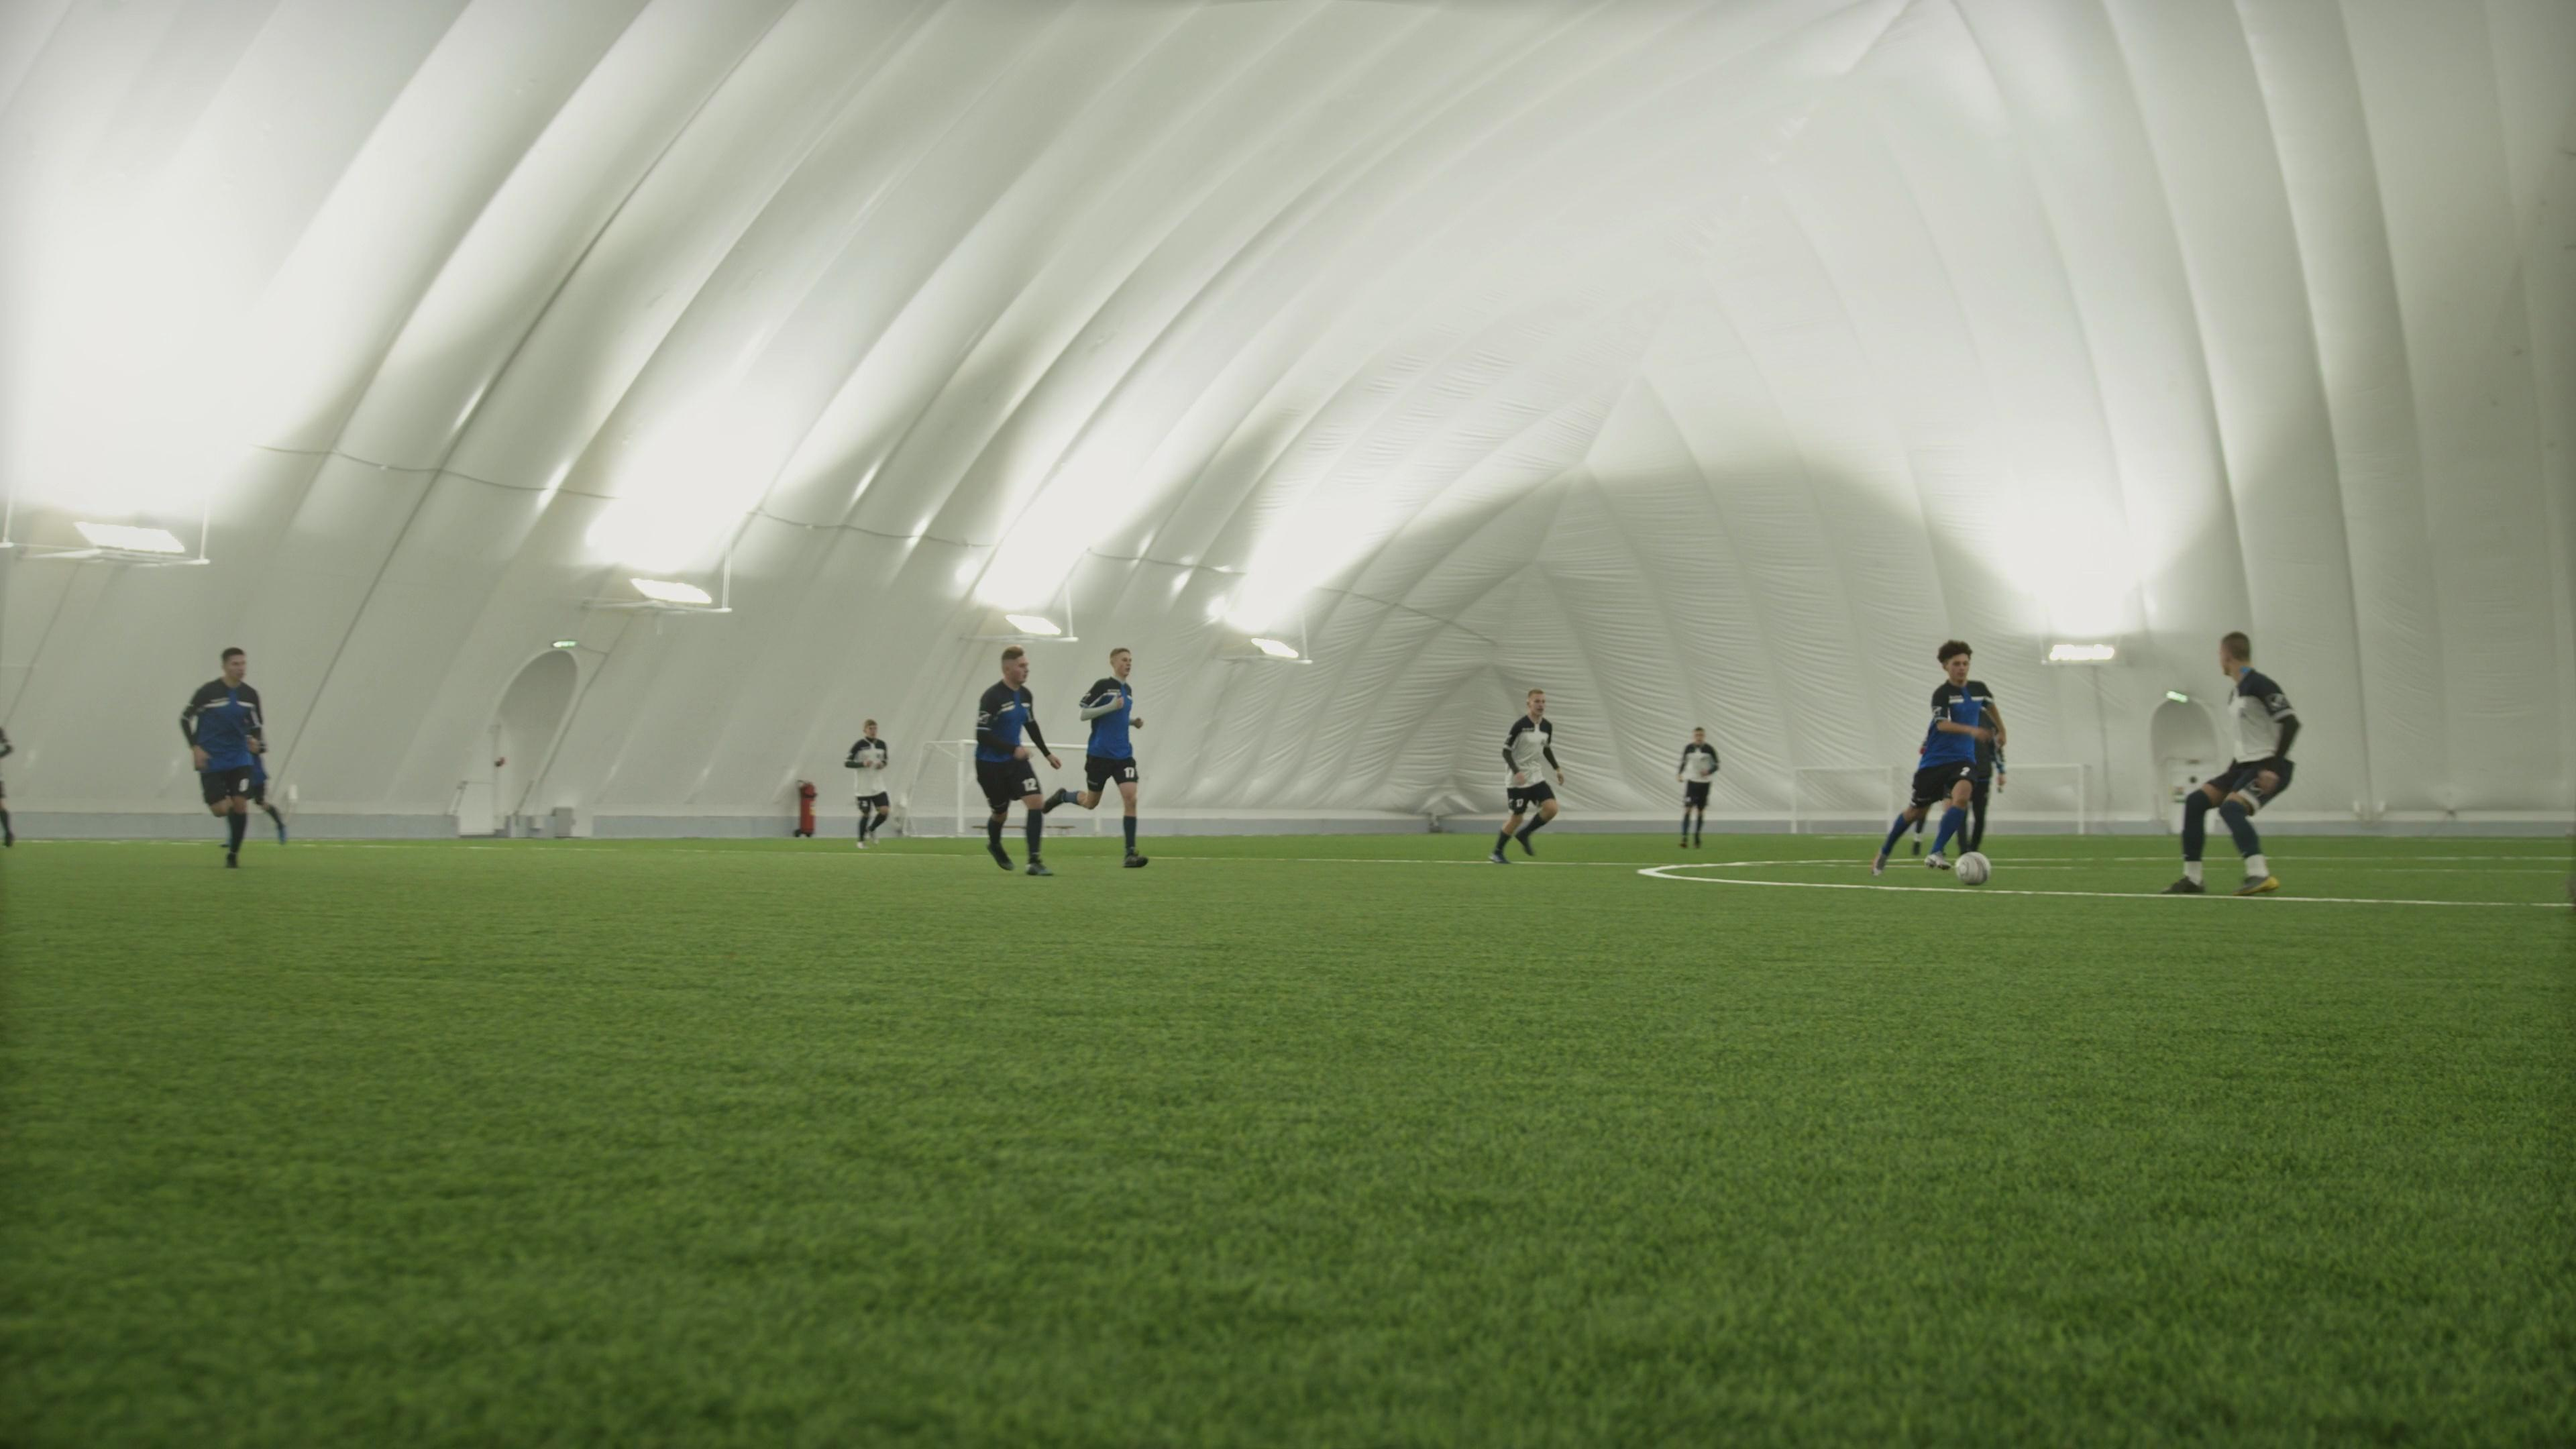team1: (1868, 637, 2008, 886), (182, 644, 285, 869), (973, 646, 1063, 876), (1074, 646, 1150, 872)
team2: (2157, 628, 2302, 893), (1490, 690, 1568, 863), (842, 711, 904, 844), (1675, 725, 1721, 851)
